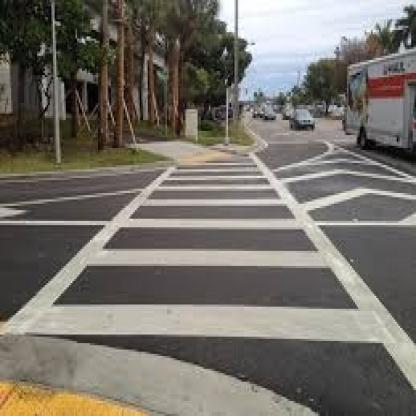Crosswalk: (5, 152, 416, 353)
